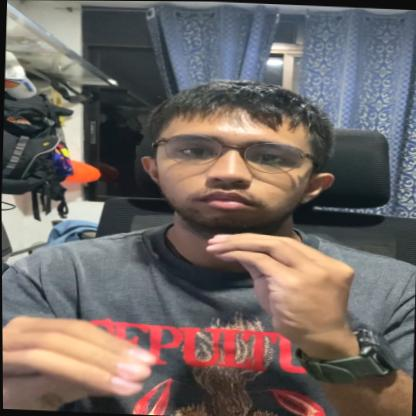Fix: (1, 211, 383, 416)
